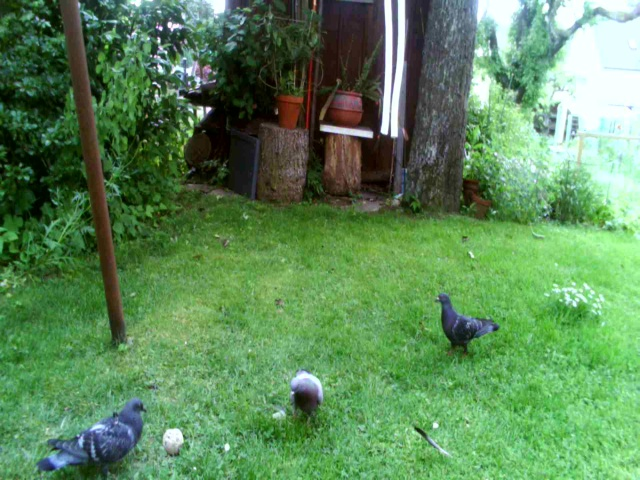Pigeon: (35, 398, 153, 473), (424, 287, 512, 359), (279, 358, 327, 416)
